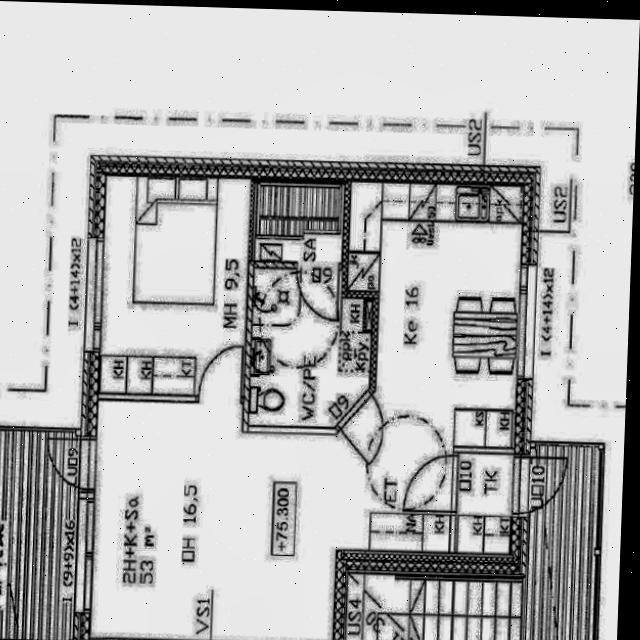room: (90, 213, 520, 640), (99, 173, 251, 397), (247, 265, 375, 430), (455, 451, 514, 554)
